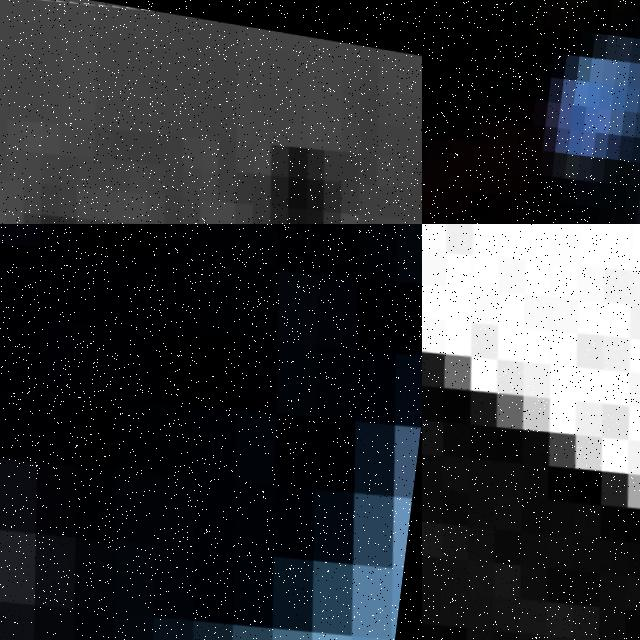drone: (0, 224, 422, 640), (0, 0, 422, 224), (422, 224, 640, 640)
